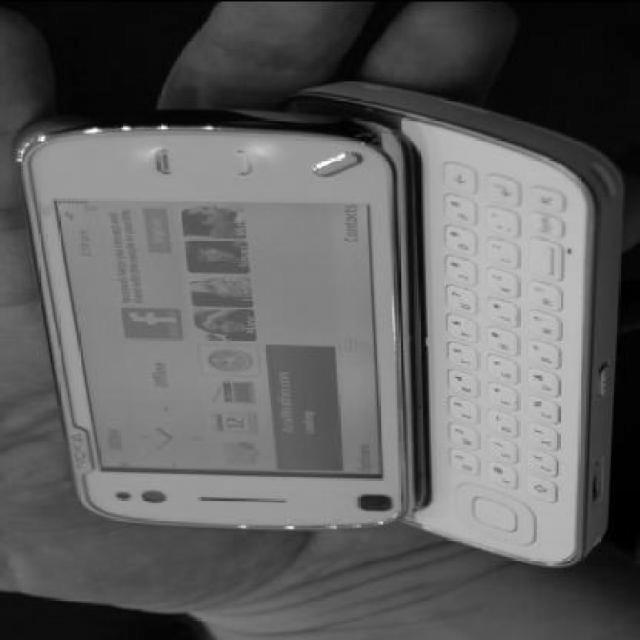fake: (19, 90, 607, 578)
